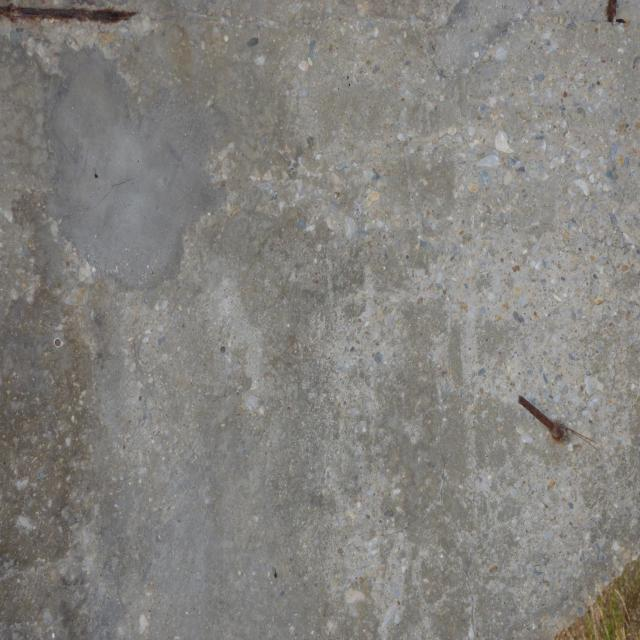corrosion: (511, 379, 584, 459), (0, 0, 145, 35), (602, 0, 618, 26)
